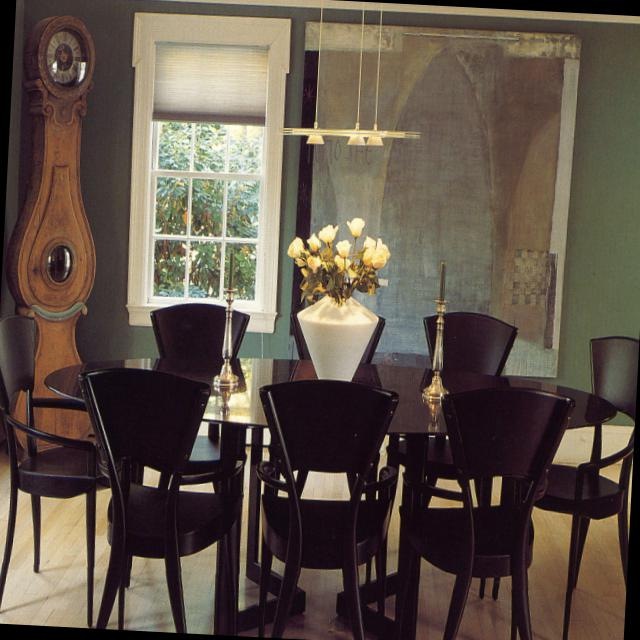2001: (143, 40, 267, 307)
2008: (152, 43, 268, 124)
candle holder: (422, 260, 451, 395), (213, 248, 239, 385)
chair -occluded-: (395, 390, 575, 640), (82, 366, 243, 632), (256, 379, 399, 639), (532, 337, 638, 640), (0, 315, 95, 623), (423, 311, 515, 373), (151, 302, 247, 360), (289, 318, 387, 360)
dining table: (43, 355, 618, 640)
floor -X: (0, 440, 633, 640)
grandfather clock: (5, 15, 97, 462)
light fixture: (276, 1, 421, 145)
picture crop: (289, 19, 580, 375)
vase with flowers: (286, 217, 388, 378)
